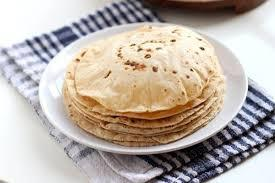roti phulka: (62, 25, 223, 132)
